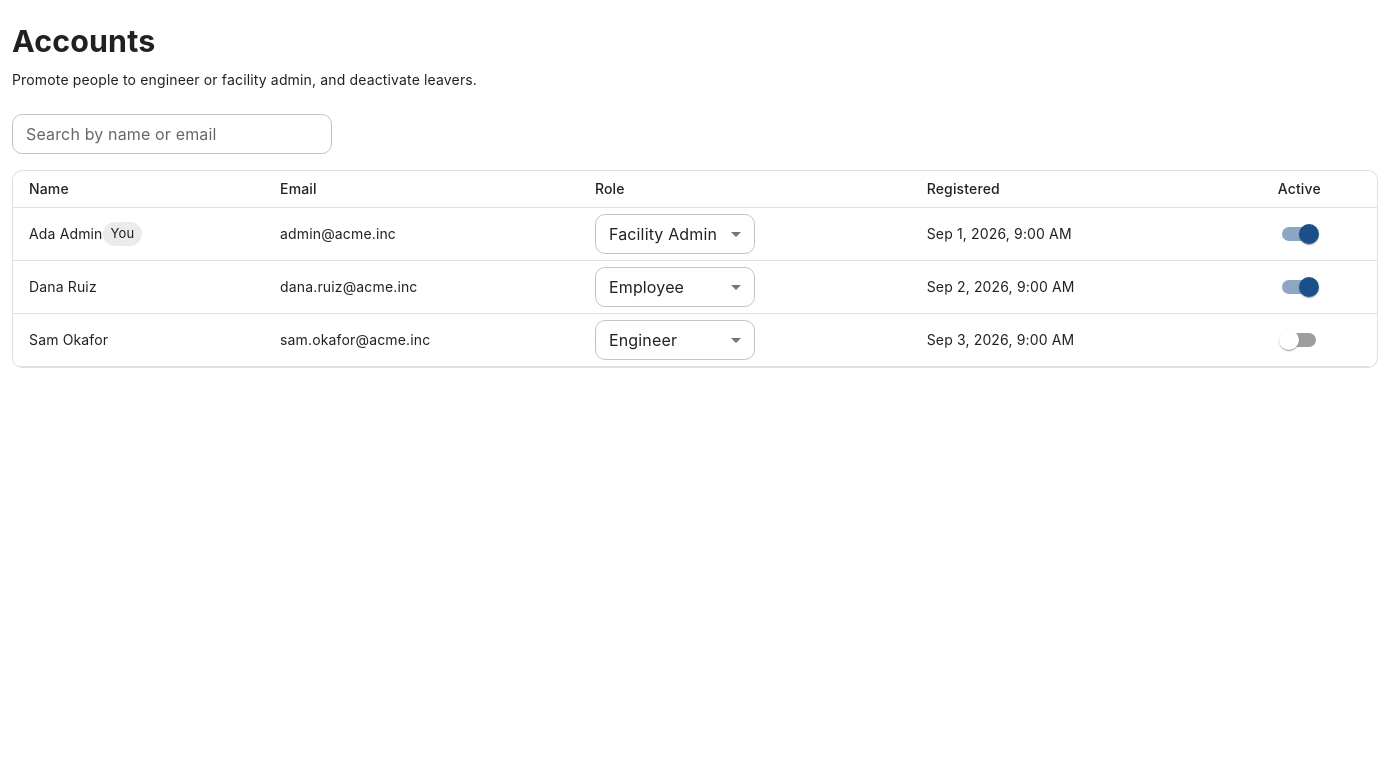
Test case: activation › surfaces the API refusing self-deactivation
Check: the text "Ada Admin" is shown, box top-left (29, 225), bottom-right (102, 242)
Click the switch named "Active state for Ada Admin" at (1309, 234), box top-left (1299, 224), bottom-right (1319, 244)
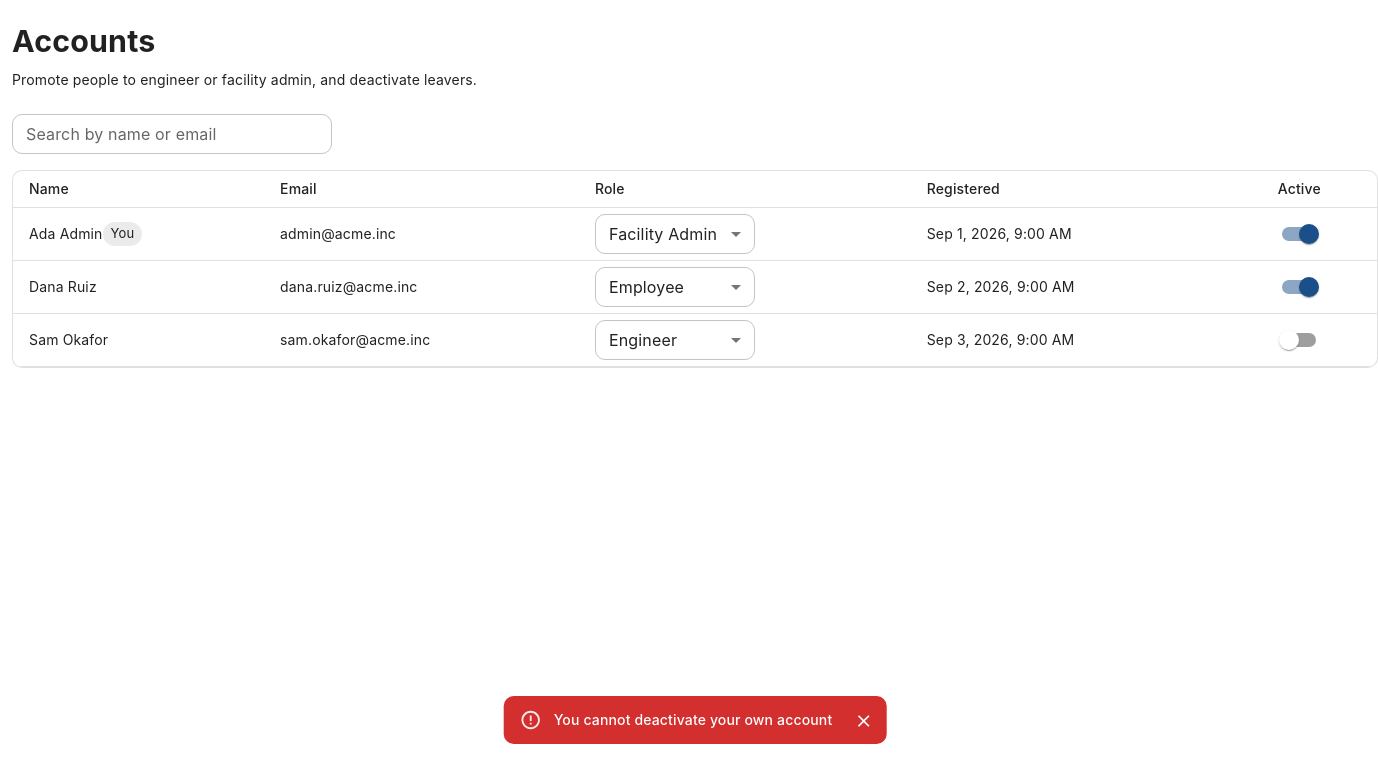
Check: the text "You cannot deactivate your own account" is shown, box top-left (554, 711), bottom-right (832, 728)
